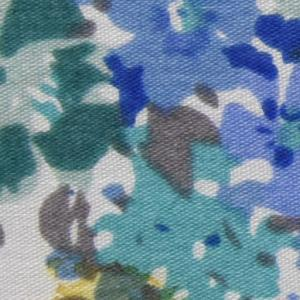Oil Stain: (44, 256, 185, 300)
